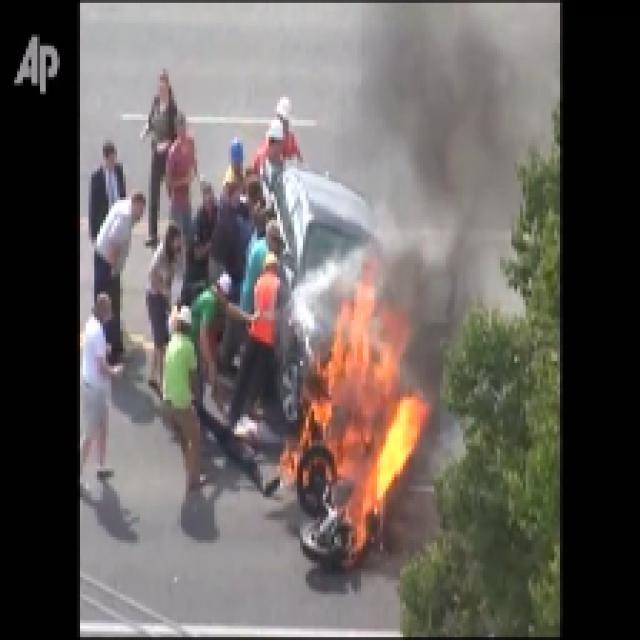Smoke: (308, 5, 558, 288), (297, 272, 443, 602)
